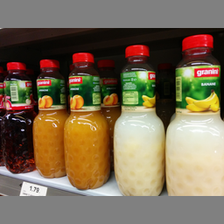juice: (165, 34, 224, 196), (112, 45, 166, 196), (65, 52, 110, 191), (30, 58, 66, 179), (1, 60, 36, 174)
